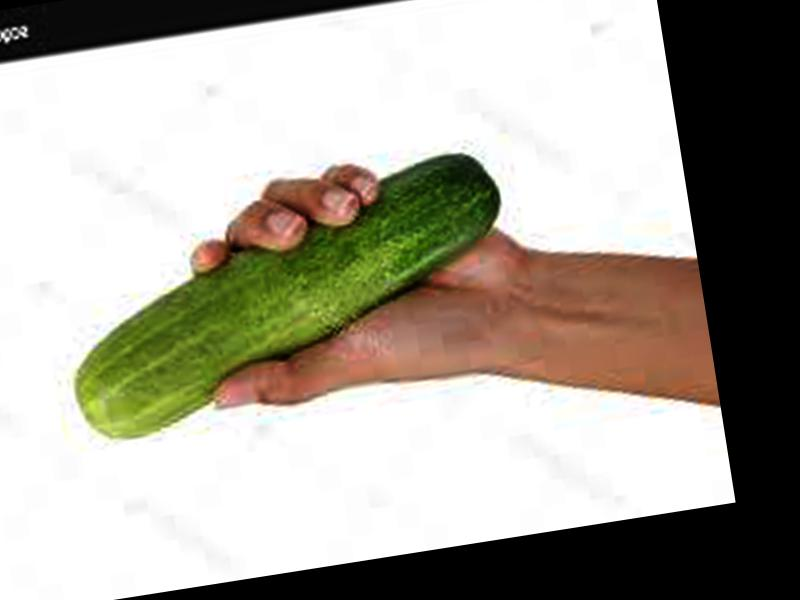Cucumber: (51, 150, 529, 448)
